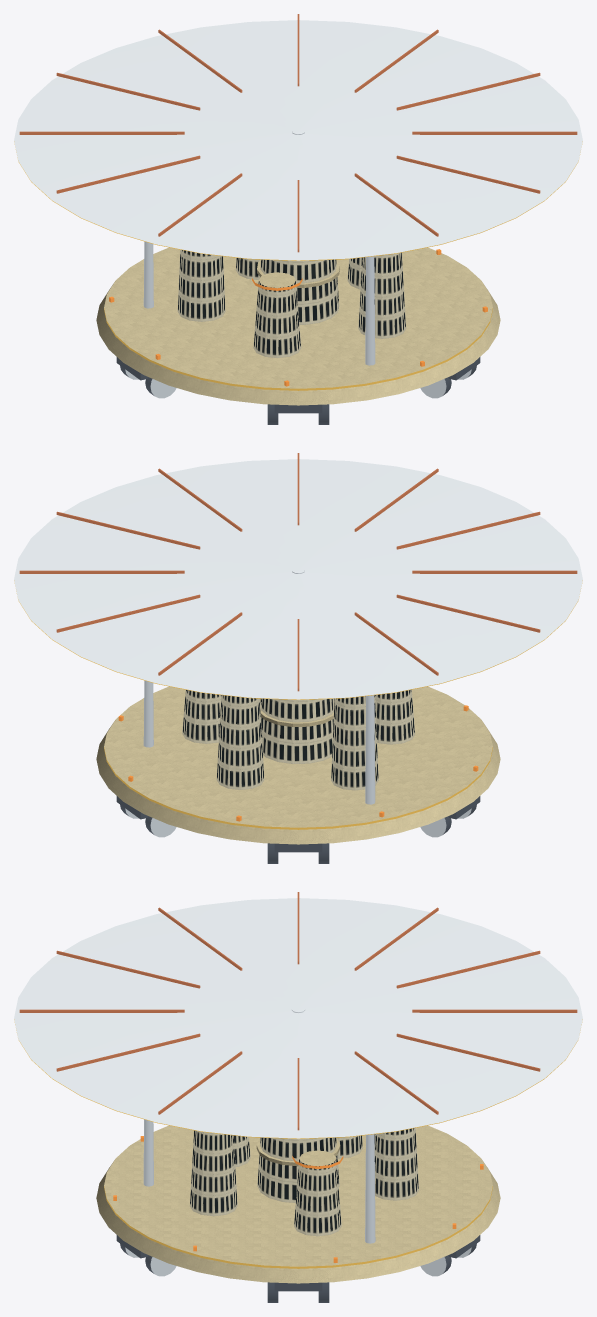
File: mercury_crawler_town.glb
The picture shows the model from 3 angles, top to bottom: view 1: azimuth 30°, elevation 25°; view 2: azimuth 150°, elevation 25°; view 3: azimuth 270°, elevation 25°; orthographic projection.
Parts seen in each view (by area): view 1: mercury_crawler_town_LOD0; view 2: mercury_crawler_town_LOD0; view 3: mercury_crawler_town_LOD0.
Boxes of the visible parts, bbox=[...] form: mercury_crawler_town_LOD0: bbox=[14, 14, 582, 424]; mercury_crawler_town_LOD0: bbox=[14, 453, 582, 863]; mercury_crawler_town_LOD0: bbox=[14, 892, 582, 1302].
Size of what is drawn, in the model's own units: 76 by 32.3 by 76.
3 materials, 3 textured.
